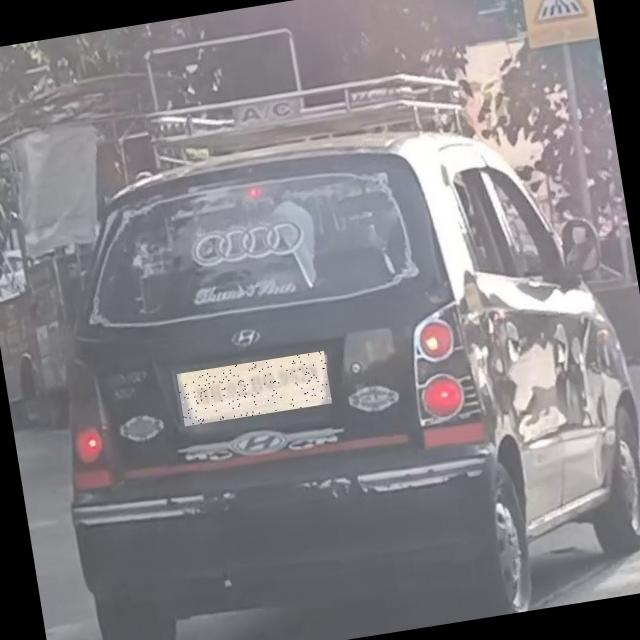Plate: (178, 352, 333, 428)
